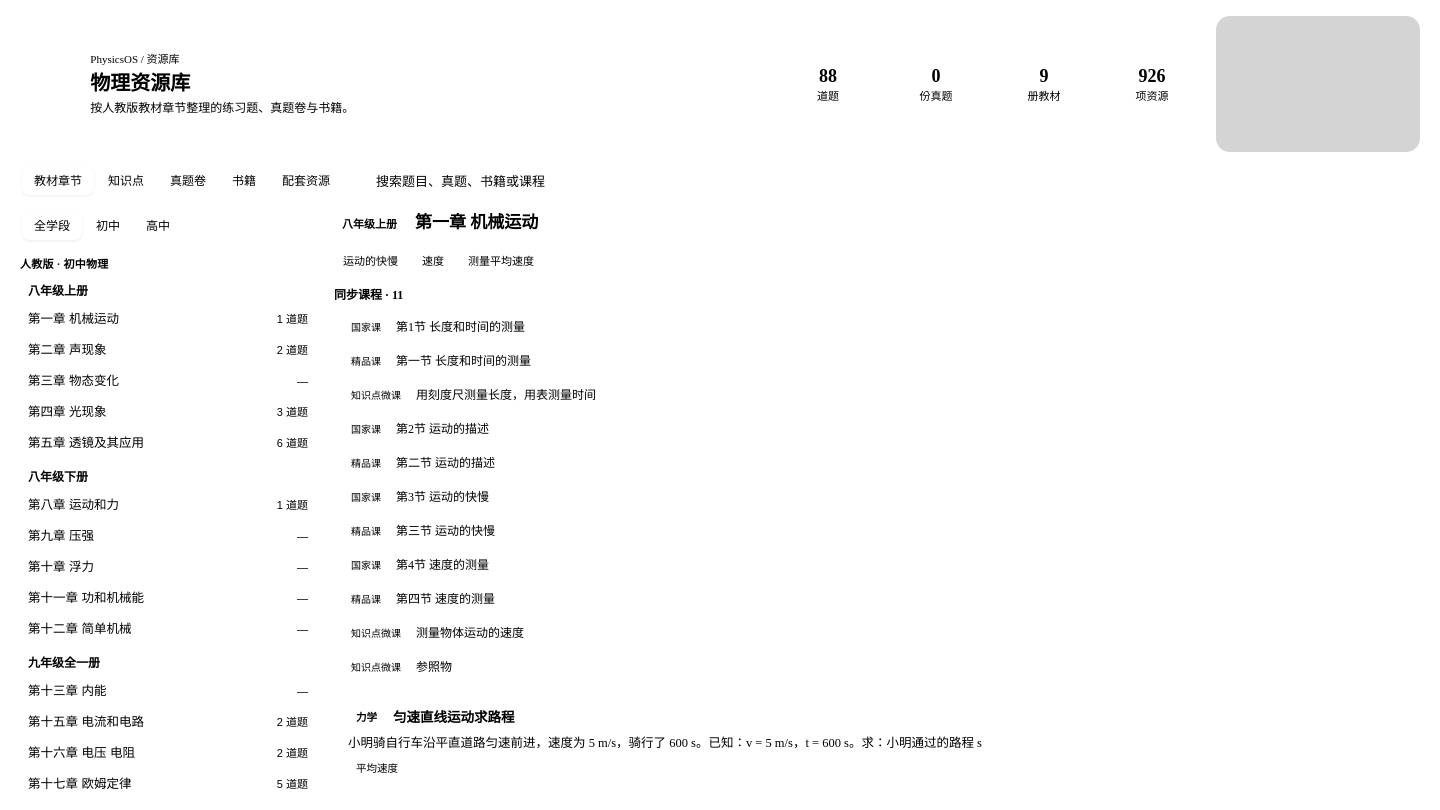
Scenario: LibraryWorkspace 真题卷库 › filters by paper kind and region through the rail chips
Click the tab "真题卷" at (188, 181), box [158,167,218,195]
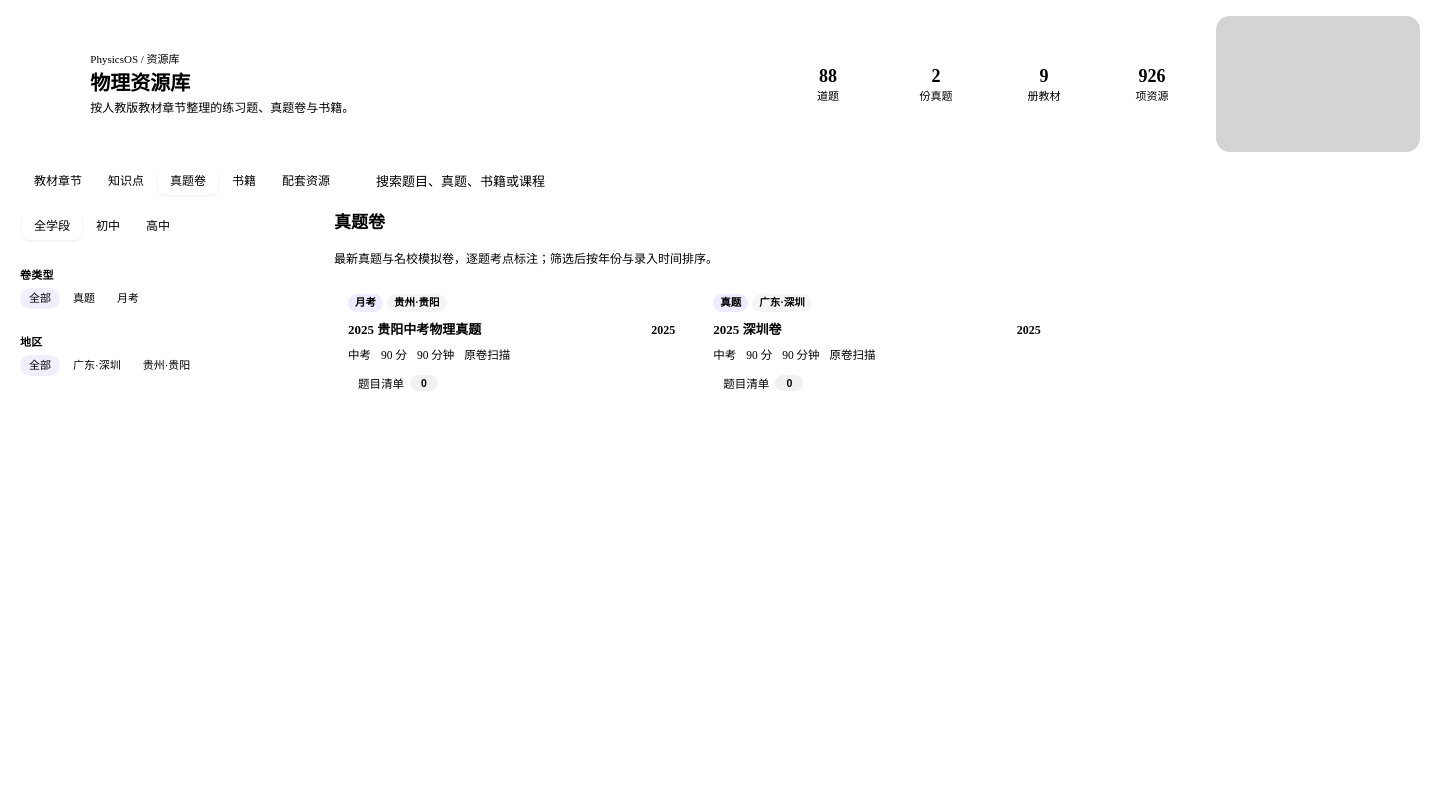
Expected: the text "最新真题与名校模拟卷，逐题考点标注；筛选后按年份与录入时间排序。" is shown, [334,252,718,266]
Expected: the text "2025 深圳卷" is shown, [713,320,782,339]
Click the button "月考" at (128, 298), box [108,288,148,309]
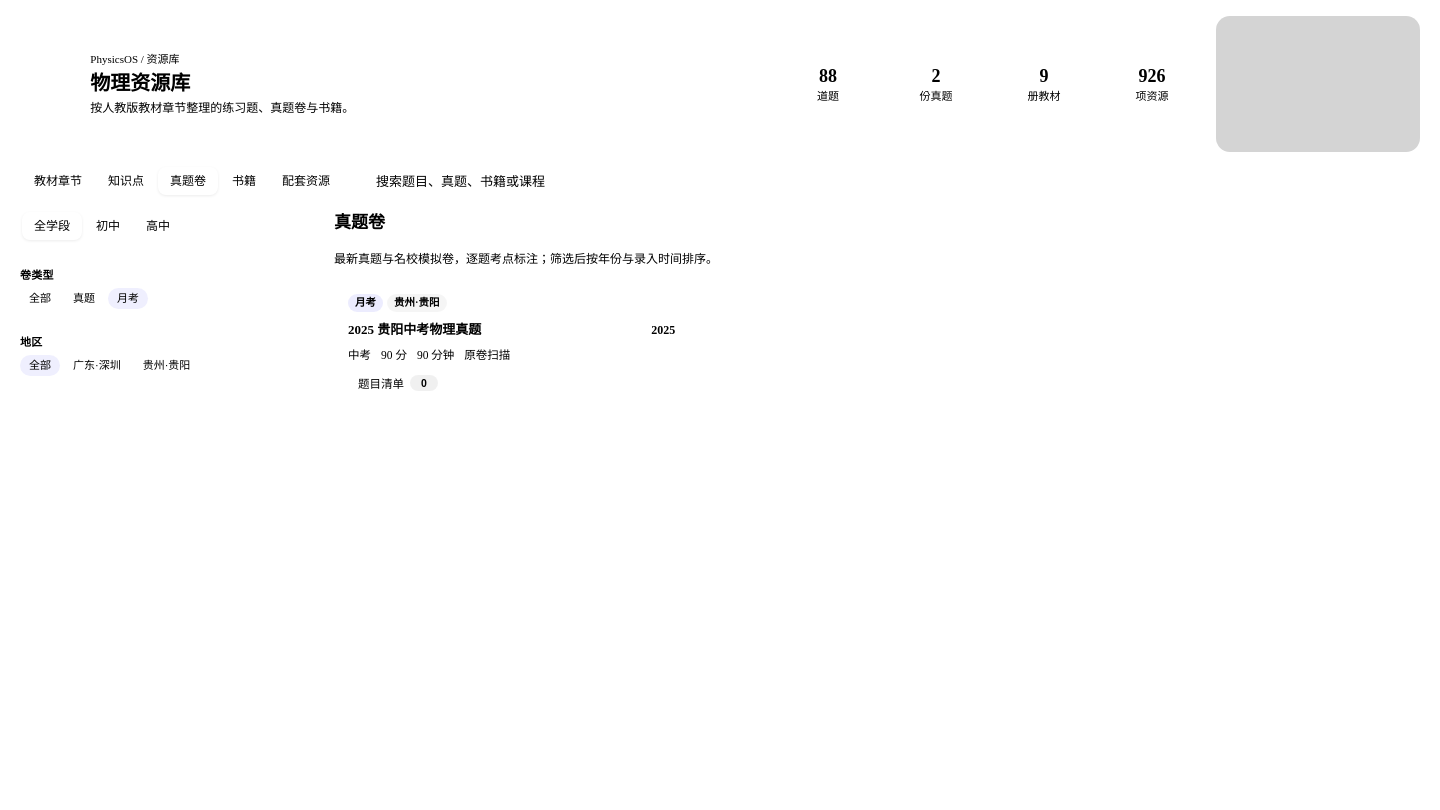
Expected: the text "2025 贵阳中考物理真题" is shown, [348,320,481,339]
Expected: the text "2025 深圳卷" is gone
Click the button "全部" below "卷类型" at (40, 298), box [20,288,60,309]
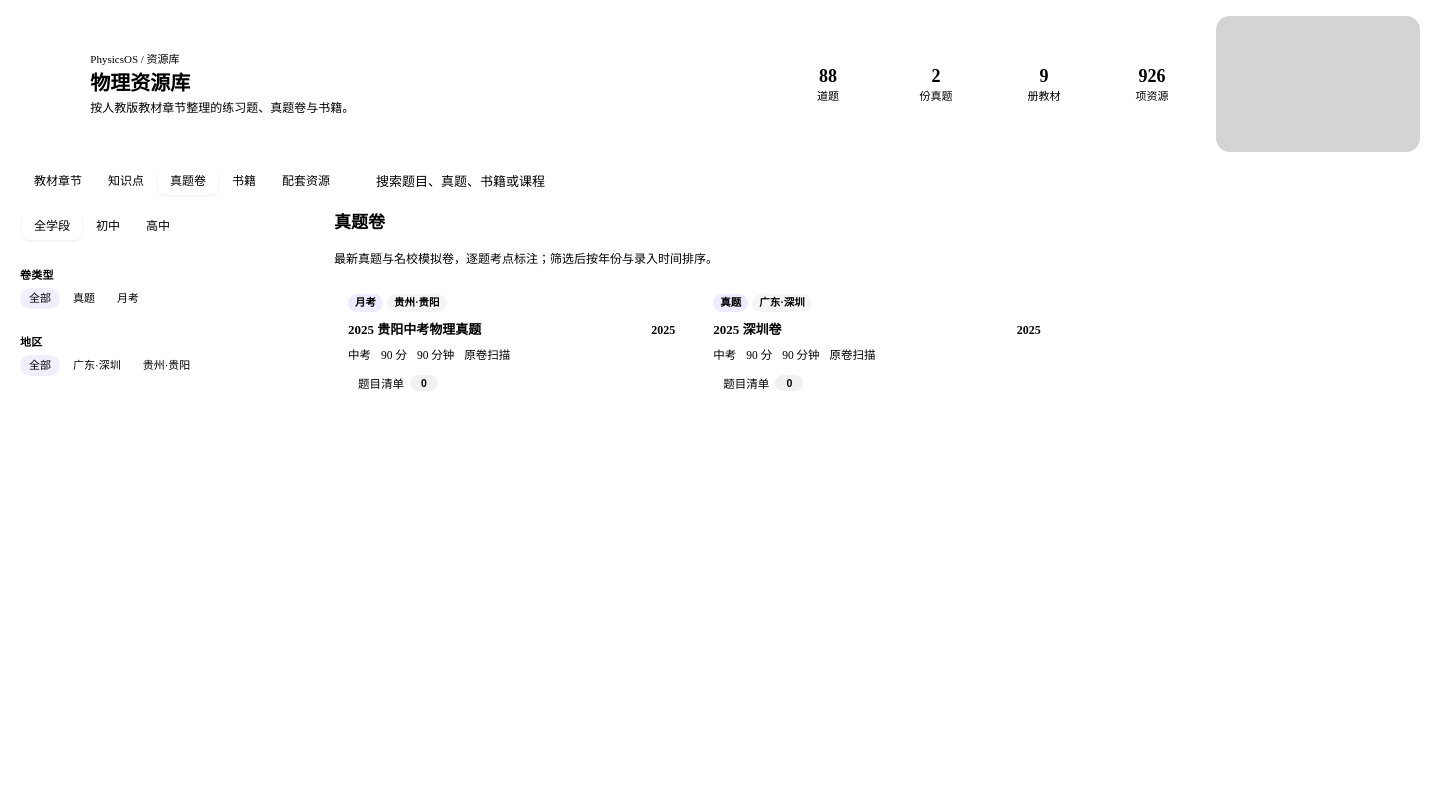
Click the button "广东·深圳" at (97, 366), box [64,355,130,376]
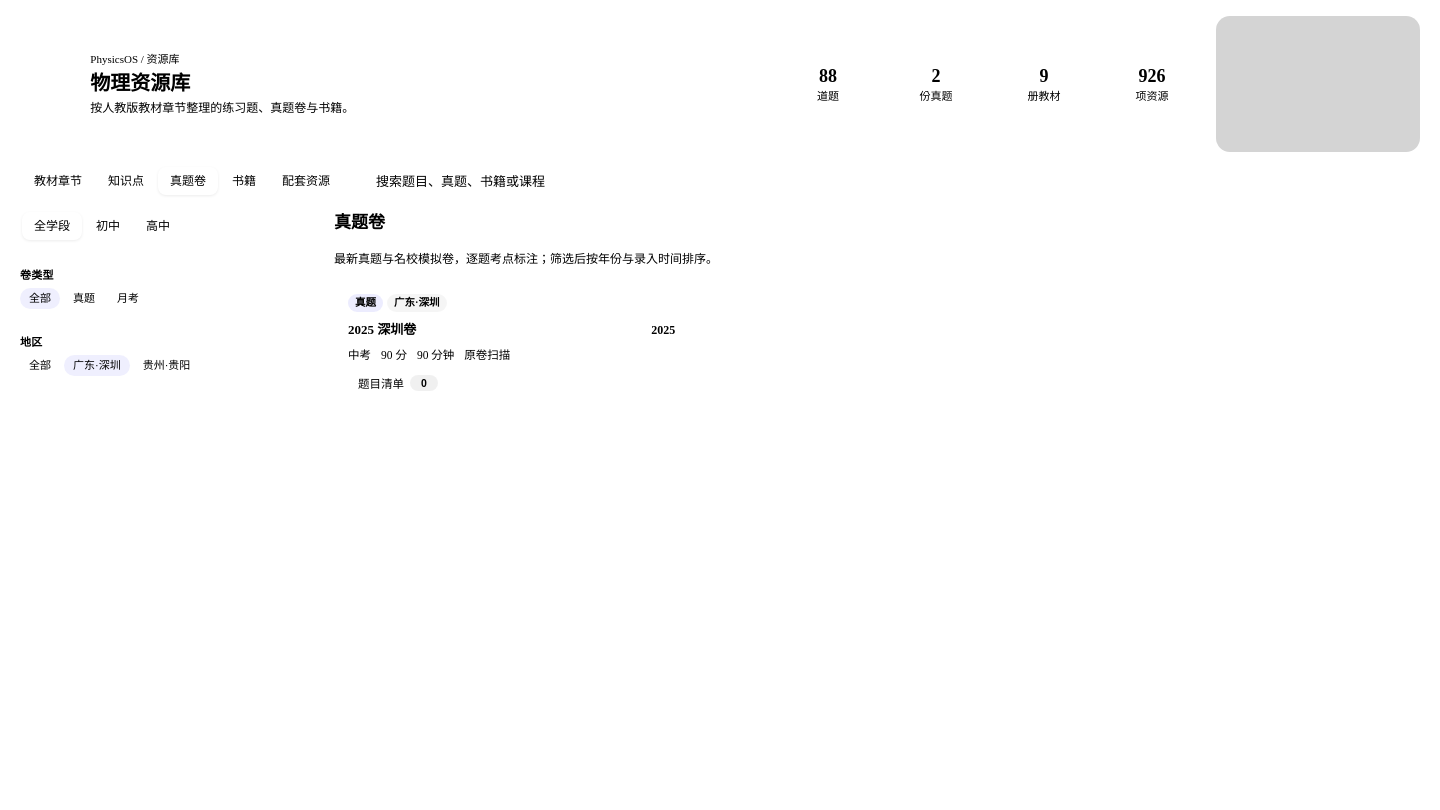
Expected: the text "2025 深圳卷" is shown, [348,320,416,339]
Expected: the text "2025 贵阳中考物理真题" is gone
